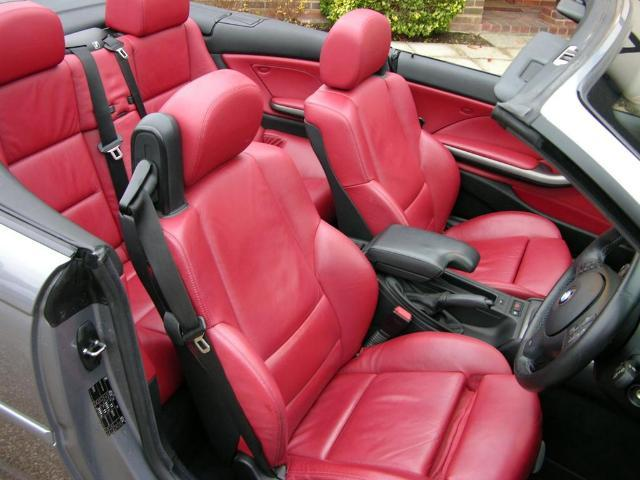Seatbelt: (128, 186, 276, 476), (70, 45, 132, 201), (97, 33, 145, 115)
